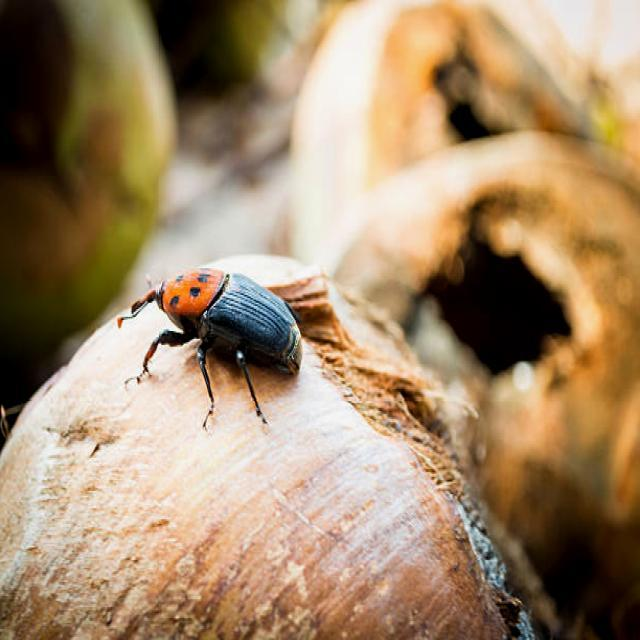Red-palm-weevil: (114, 270, 300, 376)
